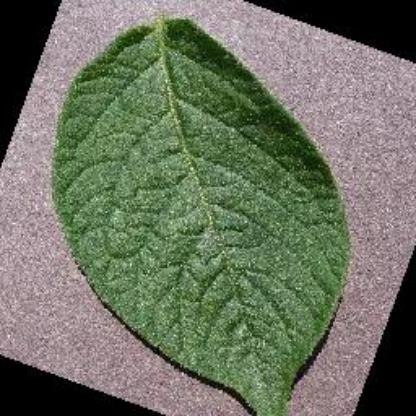Healthy-plant: (47, 13, 376, 406)
